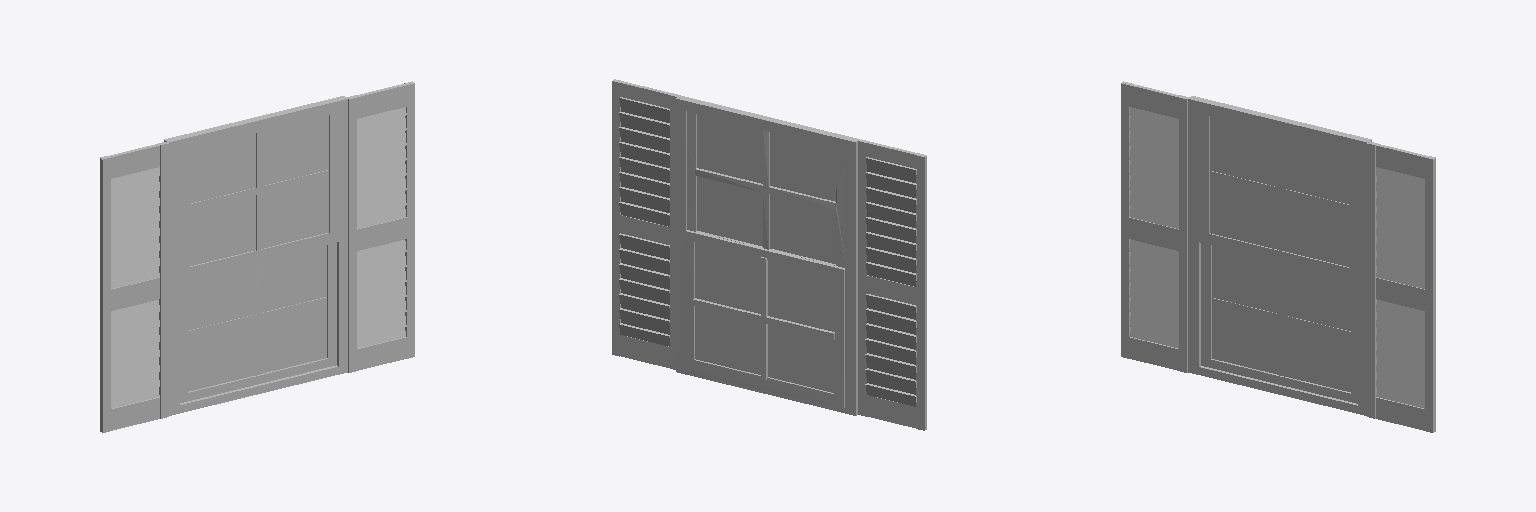
Rendered from window_with_shutters_large.obj.
The picture shows the model from 3 angles: view 1: azimuth 30°, elevation 25°; view 2: azimuth 150°, elevation 25°; view 3: azimuth 330°, elevation 25°; orthographic projection.
Visible parts, largest first — view 1: Glass_Cube.001, WindowFrame_Plane.024, ShutterPanes.001_Plane.003, ShutterEdge.001_Plane.002; view 2: Glass_Cube.001, ShutterPanes.001_Plane.003, WindowFrame_Plane.024, ShutterEdge.001_Plane.002; view 3: Glass_Cube.001, WindowFrame_Plane.024, ShutterPanes.001_Plane.003, ShutterEdge.001_Plane.002.
Boxes of the visible parts, x1,y1,x2,y2 form: Glass_Cube.001: [188, 115, 328, 391]; WindowFrame_Plane.024: [164, 96, 347, 415]; ShutterPanes.001_Plane.003: [111, 107, 406, 408]; ShutterEdge.001_Plane.002: [100, 81, 414, 432]; Glass_Cube.001: [695, 114, 835, 392]; ShutterPanes.001_Plane.003: [619, 97, 916, 406]; WindowFrame_Plane.024: [676, 95, 859, 415]; ShutterEdge.001_Plane.002: [612, 79, 926, 430]; Glass_Cube.001: [1210, 116, 1350, 391]; WindowFrame_Plane.024: [1188, 96, 1371, 415]; ShutterPanes.001_Plane.003: [1129, 107, 1424, 408]; ShutterEdge.001_Plane.002: [1121, 81, 1435, 432].
Bounding box in the file's own units: 90.04 × 75.39 × 2.91.